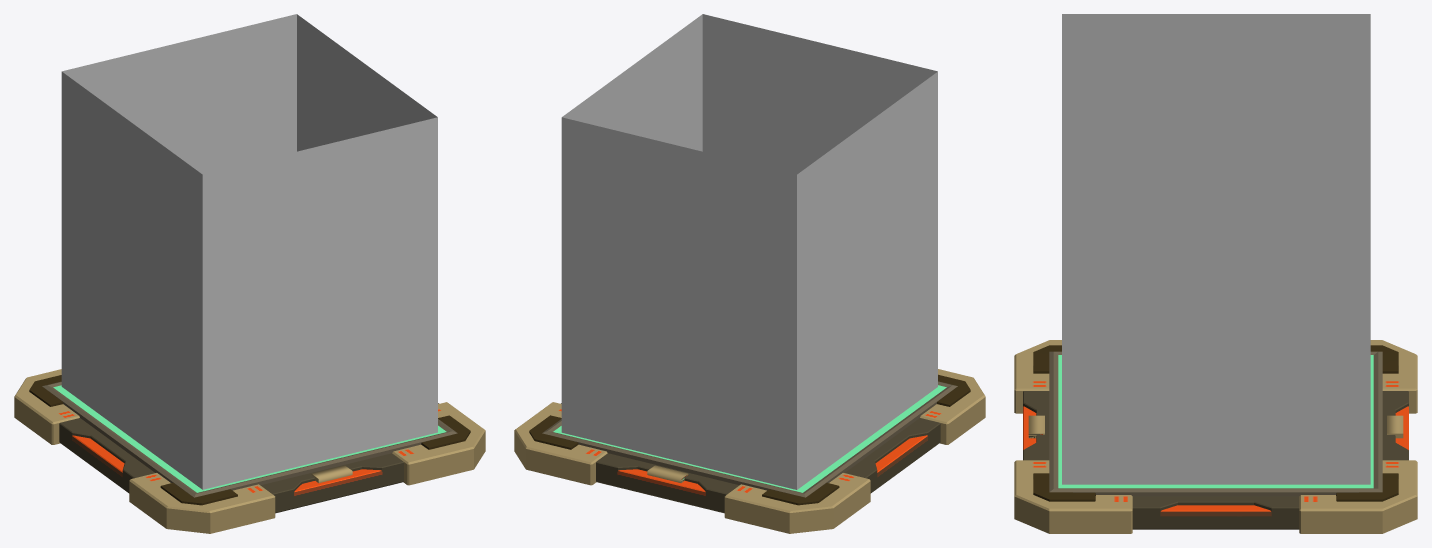
Rendered from ETP_Spawn.FBX.
3 renders of one model, left to right at view 1: azimuth 30°, elevation 25°; view 2: azimuth 150°, elevation 25°; view 3: azimuth 270°, elevation 25°, orthographic. The views are drawn at different scales.
Parts seen in each view (by area): view 1: smSPW0110029; view 2: smSPW0110029; view 3: smSPW0110029.
Part boxes in pixels (box(x1,y1,x2,y2)): smSPW0110029: box(14, 14, 485, 533); smSPW0110029: box(514, 14, 985, 533); smSPW0110029: box(1014, 14, 1417, 533).
Bounding box in the file's own units: 213 × 217 × 213.
Materials: 2 (1 with a texture image).
